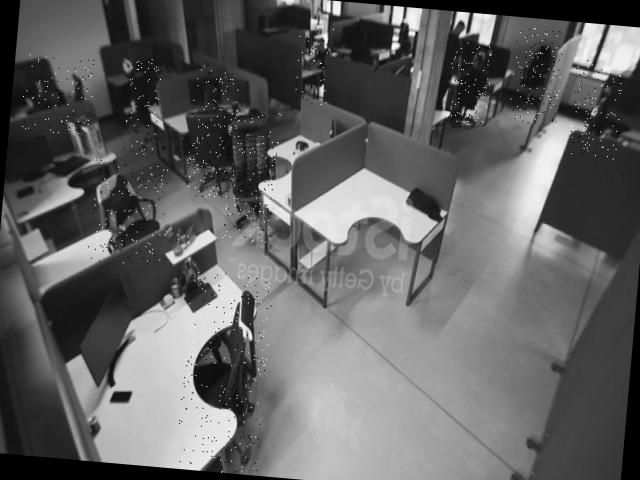empty chair: (174, 270, 274, 475), (86, 158, 168, 266), (222, 109, 281, 244), (568, 58, 624, 160), (508, 26, 564, 126), (122, 56, 163, 160)
occupiedchair: (183, 68, 240, 199), (20, 52, 94, 136), (445, 44, 492, 126), (292, 20, 334, 105)
